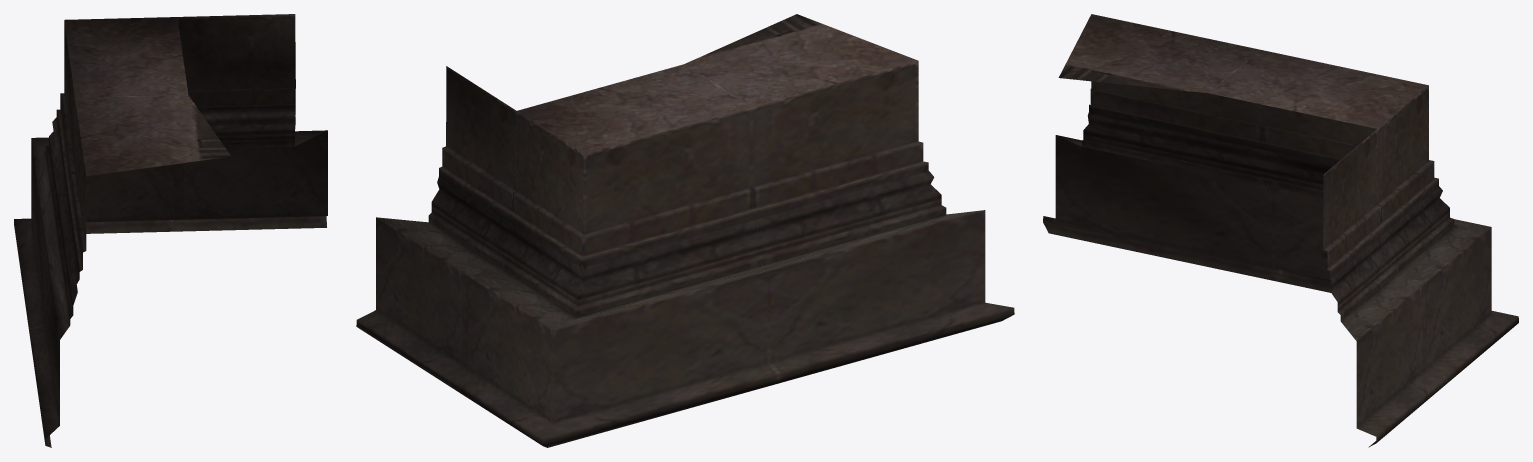
File: S2_Build_XSC100_L2.FBX
3 views of the same model, side by side, from view 1: azimuth 30°, elevation 25°; view 2: azimuth 150°, elevation 25°; view 3: azimuth 270°, elevation 25° (orthographic). The views are drawn at different scales.
Visible parts, largest first — view 1: S2_Build_XSC100_L2; view 2: S2_Build_XSC100_L2; view 3: S2_Build_XSC100_L2.
Boxes of the visible parts, left/top/right/bottom form: S2_Build_XSC100_L2: left=14, top=14, right=327, bottom=447; S2_Build_XSC100_L2: left=356, top=14, right=1014, bottom=447; S2_Build_XSC100_L2: left=1043, top=14, right=1518, bottom=447.
Bounding box in the file's own units: 3189 × 1662 × 2903.
